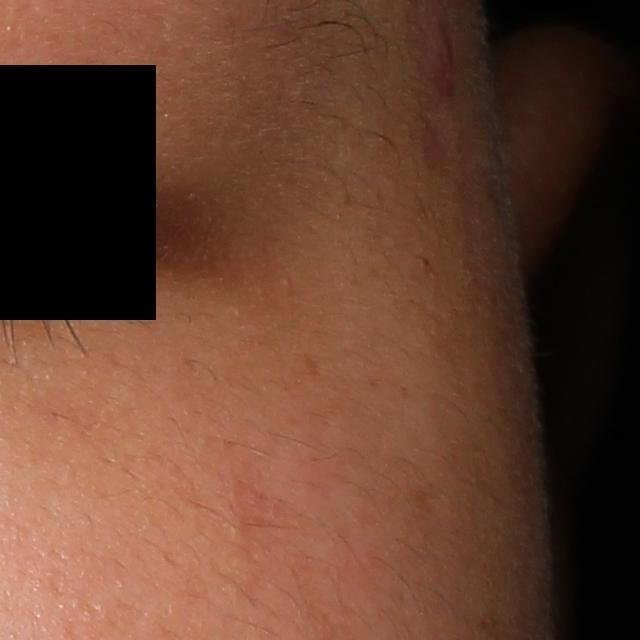melasma: (304, 350, 326, 379)
